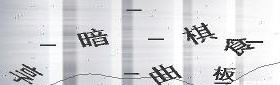chinese: (181, 21, 219, 46), (8, 61, 47, 85), (75, 28, 113, 49), (224, 34, 254, 58), (148, 65, 178, 85), (213, 66, 239, 85)
